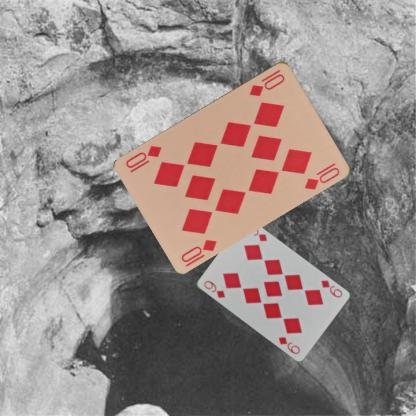10d: (246, 66, 287, 98), (178, 236, 219, 264)
9d: (318, 277, 343, 299), (201, 278, 226, 299)
